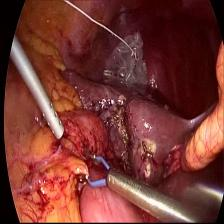Bipolar: (84, 152, 119, 196)
Irrigator: (38, 90, 67, 142)
Specimen Bag: (102, 19, 151, 91)
